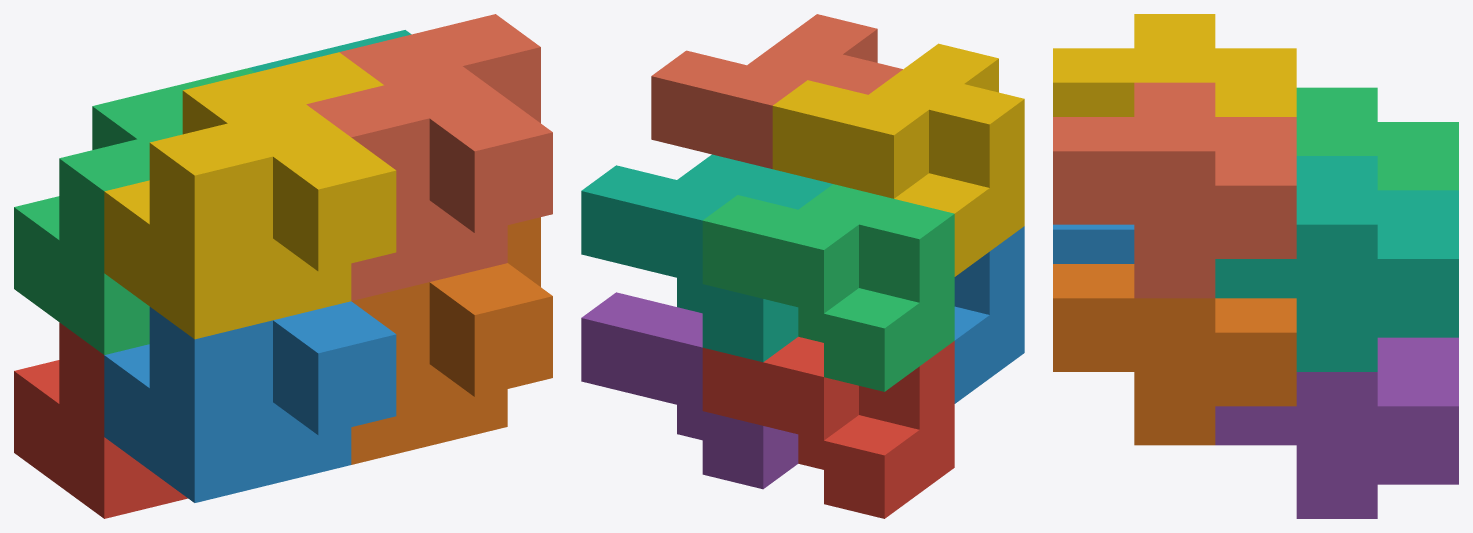
The model's file is tiling.obj.
3 renders of one model, left to right at view 1: azimuth 30°, elevation 25°; view 2: azimuth 150°, elevation 25°; view 3: azimuth 270°, elevation 25°, orthographic. The views are drawn at different scales.
Parts seen in each view (by area): view 1: copy_1_domain_4, copy_1_domain_2, copy_1_domain_8, copy_1_domain_6, copy_1_domain_3, copy_1_domain_1, copy_1_domain_7; view 2: copy_1_domain_3, copy_1_domain_4, copy_1_domain_1, copy_1_domain_7, copy_1_domain_8, copy_1_domain_5, copy_1_domain_2; view 3: copy_1_domain_8, copy_1_domain_7, copy_1_domain_6, copy_1_domain_5, copy_1_domain_4, copy_1_domain_3, copy_1_domain_2.
Boxes of the visible parts, x1,y1,x2,y2 form: copy_1_domain_4: (104,52,396,339); copy_1_domain_2: (104,301,396,502); copy_1_domain_8: (306,14,552,300); copy_1_domain_6: (351,217,552,464); copy_1_domain_3: (14,68,254,354); copy_1_domain_1: (14,322,187,518); copy_1_domain_7: (249,30,411,72); copy_1_domain_3: (702,184,954,391); copy_1_domain_4: (772,43,1024,276); copy_1_domain_1: (702,336,954,518); copy_1_domain_7: (581,154,832,362); copy_1_domain_8: (651,14,902,168); copy_1_domain_5: (581,292,798,489); copy_1_domain_2: (954,226,1024,403); copy_1_domain_8: (1053,82,1296,298); copy_1_domain_7: (1215,156,1458,371); copy_1_domain_6: (1053,264,1296,445); copy_1_domain_5: (1215,337,1458,518); copy_1_domain_4: (1053,14,1296,116); copy_1_domain_3: (1296,87,1458,190); copy_1_domain_2: (1053,224,1134,263).
Size of the model in its own units: 5 by 5 by 5.
